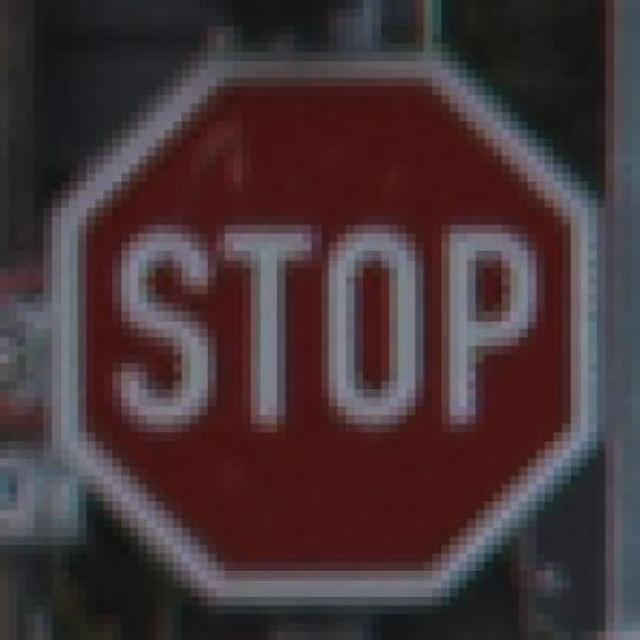Stop_Sign: (28, 42, 608, 612)
